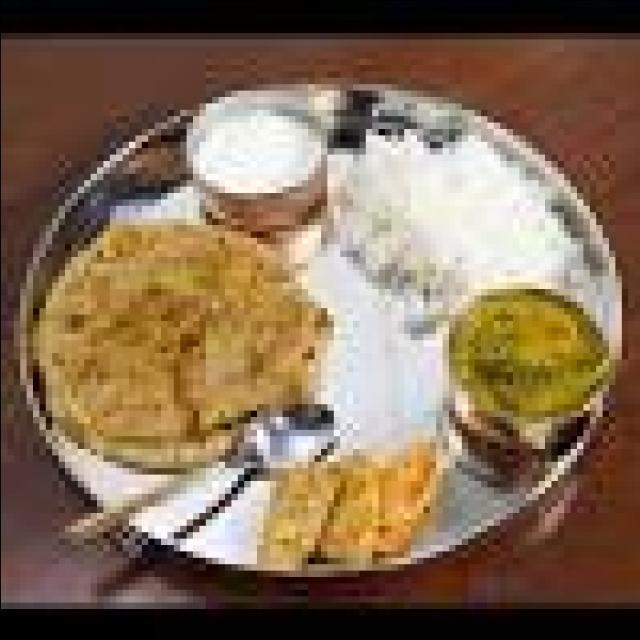curd: (179, 96, 330, 207)
dal: (445, 286, 605, 434)
rice: (339, 130, 563, 287)
roti: (35, 205, 311, 454)
